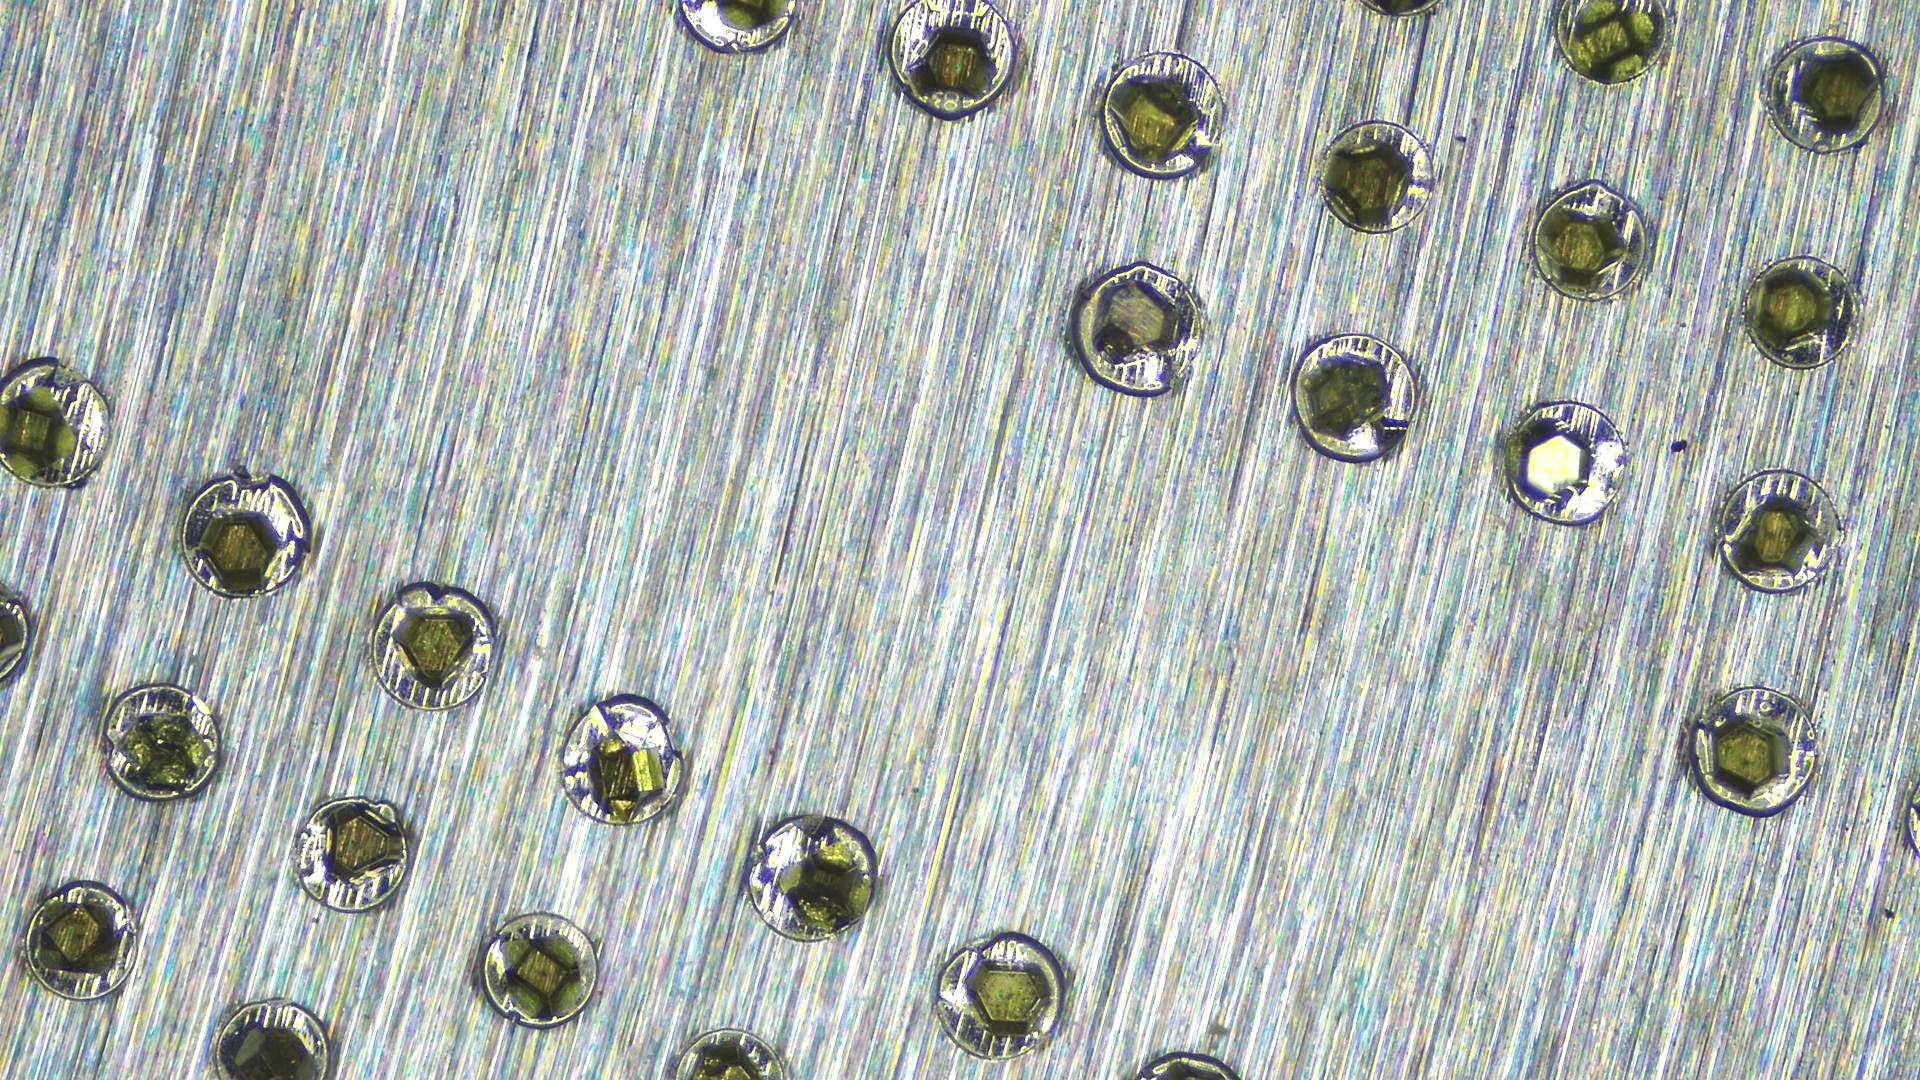fault: (744, 812, 874, 942), (555, 694, 684, 823), (99, 677, 227, 805)
